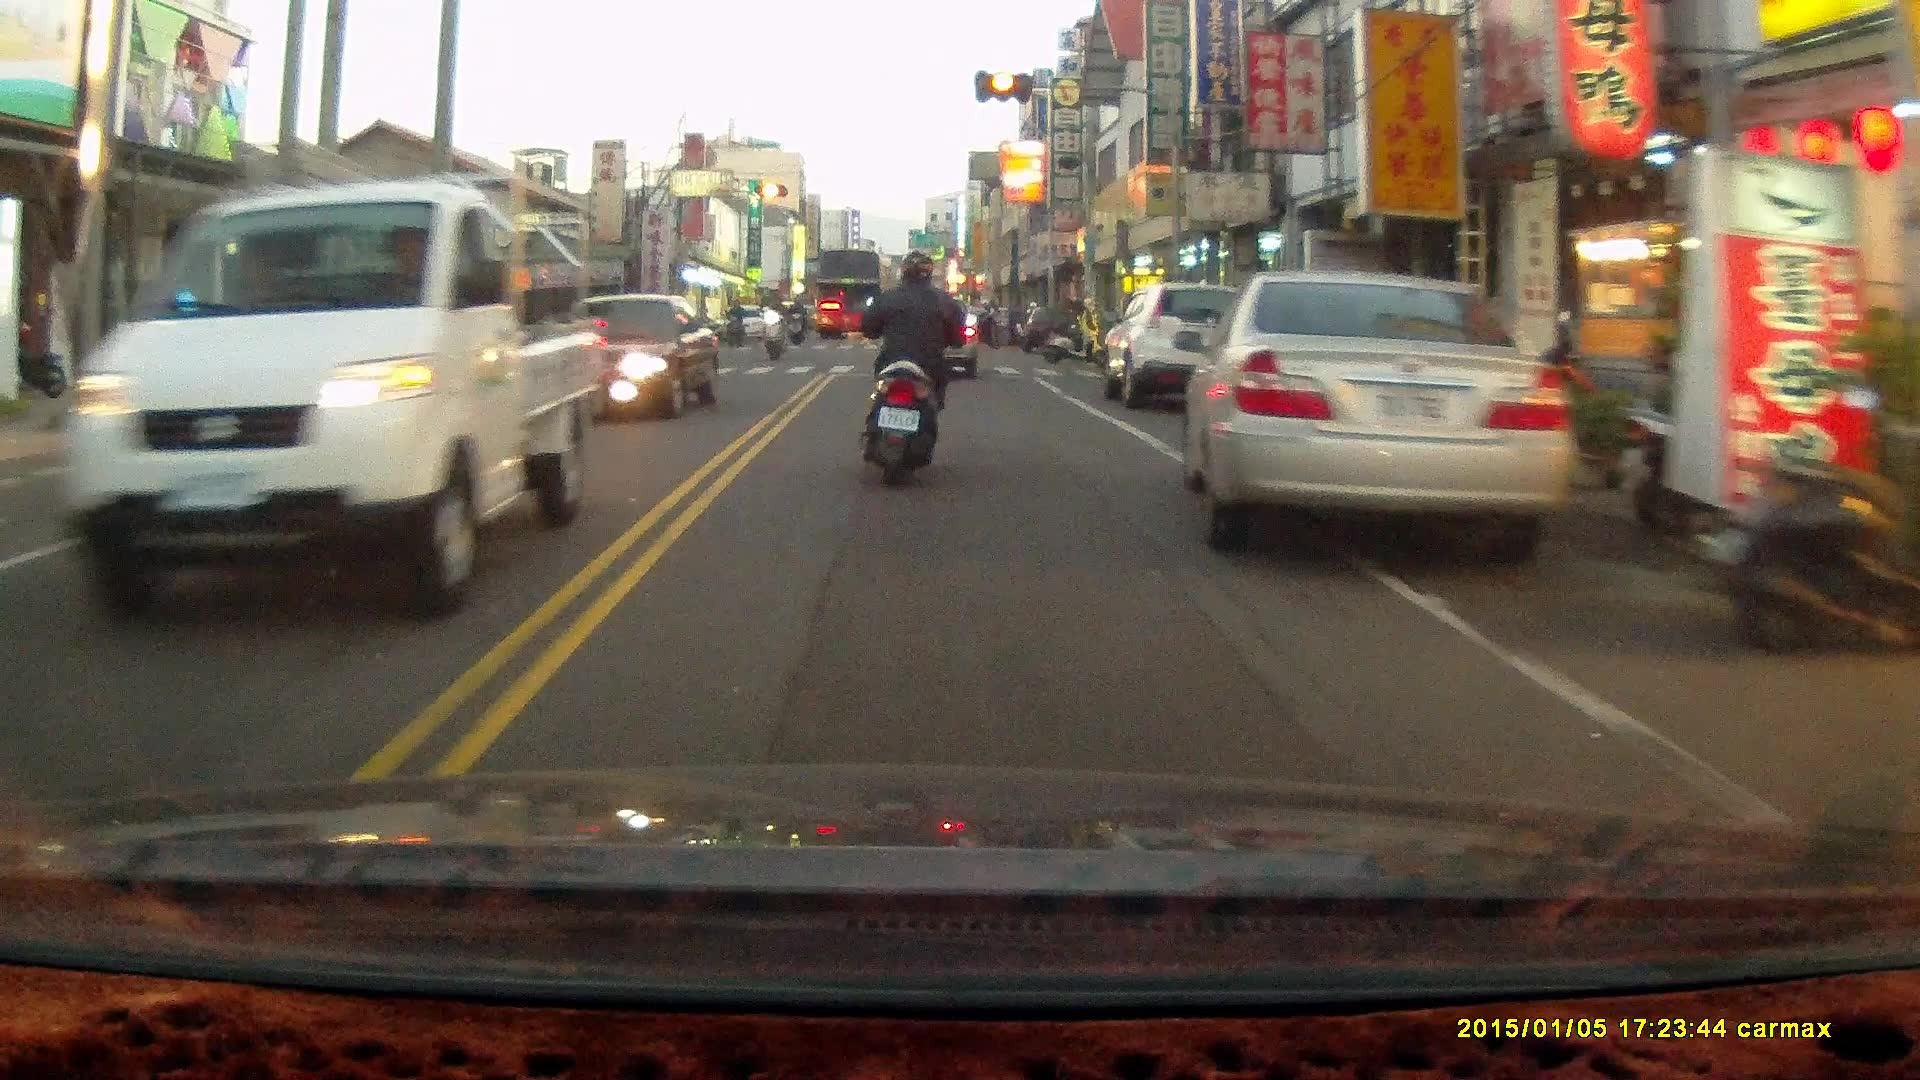pedestrian: (1078, 293, 1101, 367)
rider: (857, 248, 980, 488), (759, 289, 787, 358), (724, 295, 747, 348), (788, 292, 808, 346)
vehicle: (68, 176, 599, 624), (1179, 271, 1549, 575), (547, 292, 725, 424), (1103, 280, 1269, 409), (813, 248, 890, 336)
